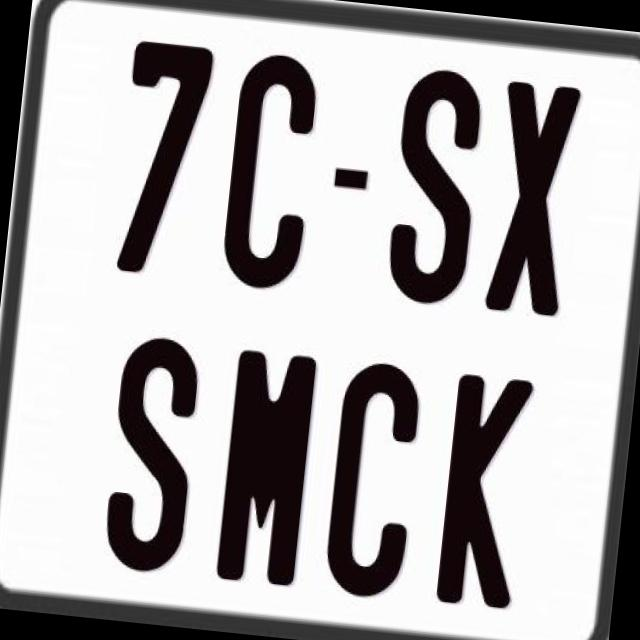7: (109, 40, 213, 282)
C: (217, 48, 326, 294), (322, 356, 427, 598)
K: (434, 373, 534, 617)
M: (210, 346, 319, 594)
S: (383, 64, 492, 313), (98, 328, 200, 570)
X: (480, 77, 580, 315)
